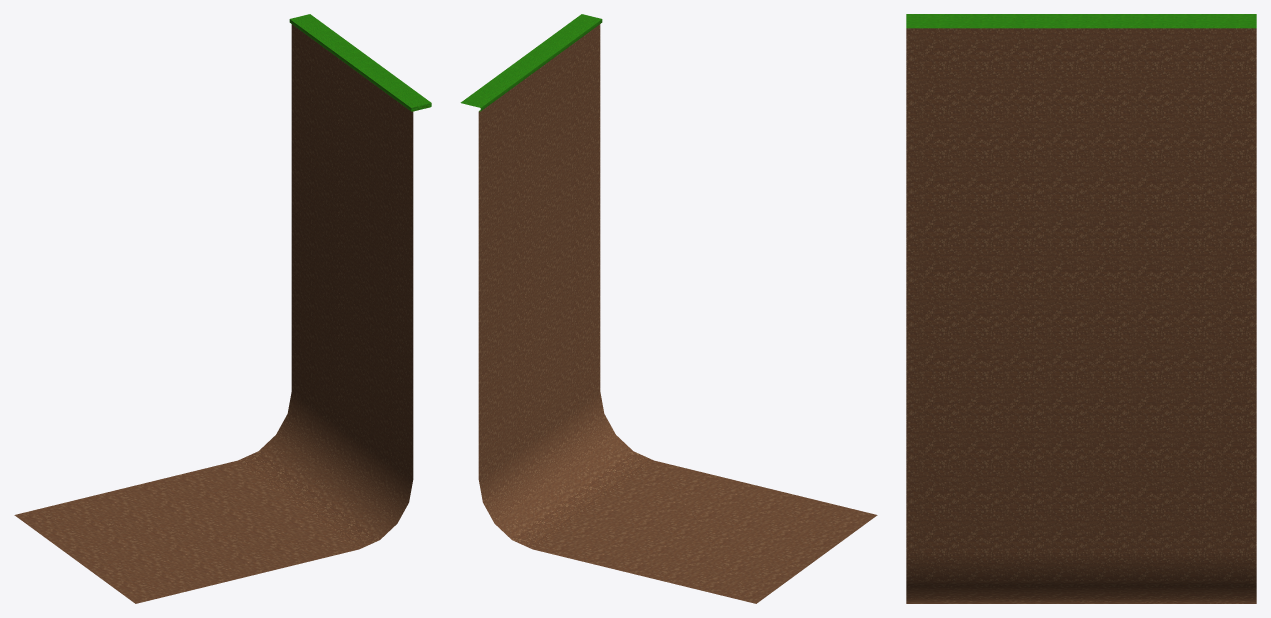
The model's file is ground.fbx.
The picture shows the model from 3 angles, left to right: view 1: azimuth 30°, elevation 25°; view 2: azimuth 150°, elevation 25°; view 3: azimuth 270°, elevation 25°; orthographic projection. The views are drawn at different scales.
Parts seen in each view (by area): view 1: Cube; view 2: Cube; view 3: Cube.
Part boxes in pixels (<box>): Cube: <box>14,14,431,603</box>; Cube: <box>460,14,877,603</box>; Cube: <box>906,14,1256,603</box>.
Size of the model in its own units: 3598 by 4980 by 2560.
Materials: 2 (2 with a texture image).
